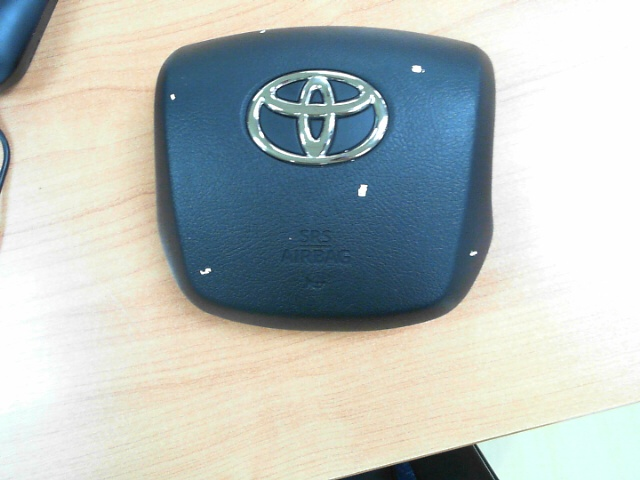Airbag: (410, 64, 426, 74), (357, 184, 368, 197), (199, 268, 211, 275), (468, 250, 478, 256), (170, 94, 176, 101), (259, 30, 266, 34)
